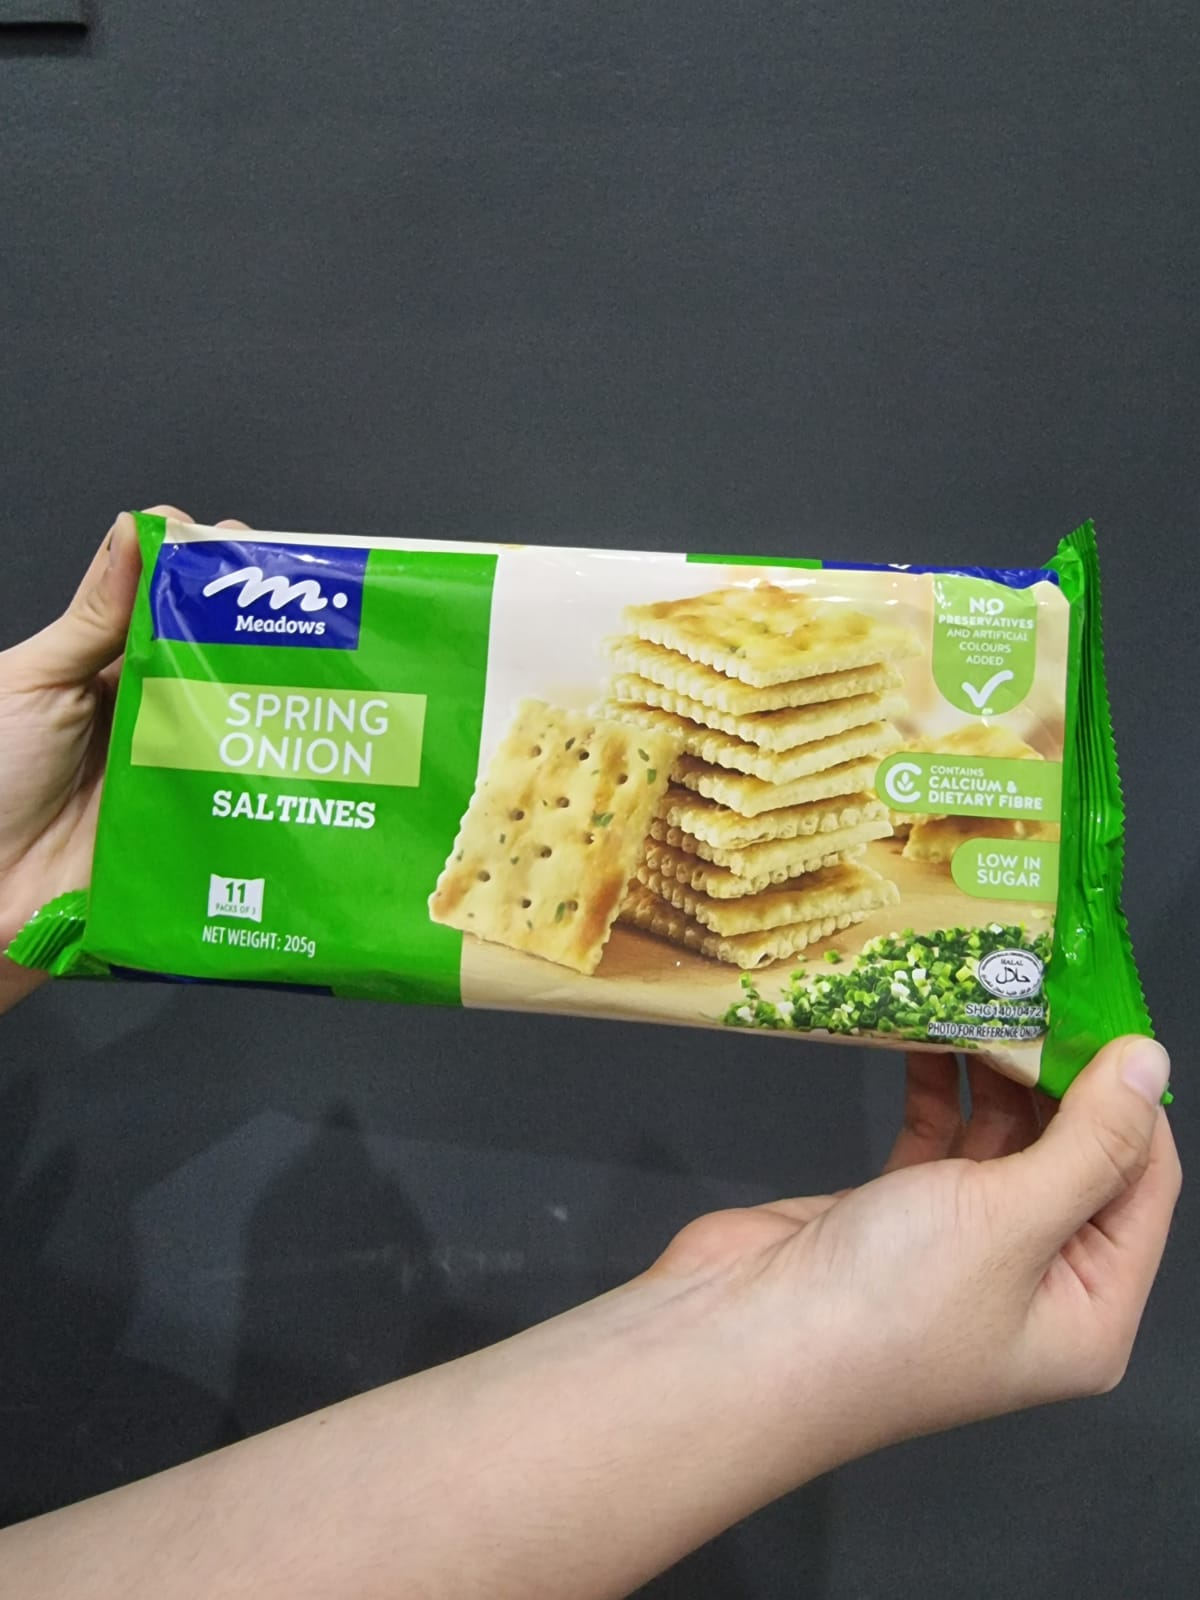Biscuits: (153, 540, 1073, 1053)
